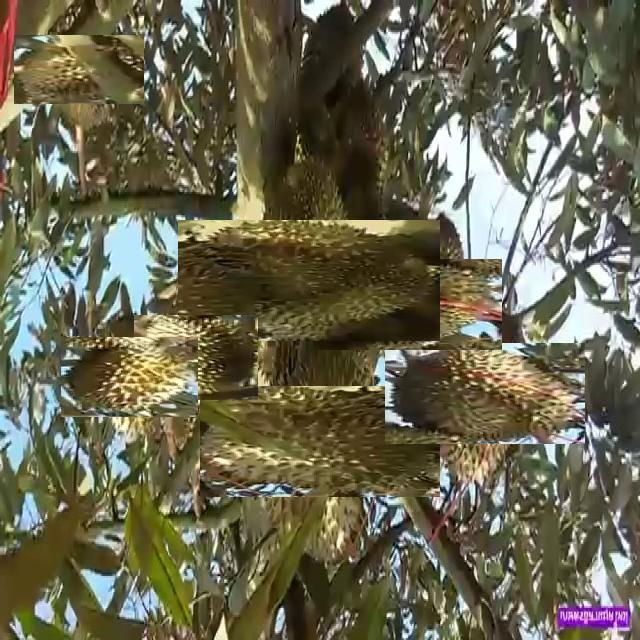durian: (213, 185, 405, 377), (232, 354, 408, 530), (409, 318, 560, 469), (337, 234, 478, 374), (75, 322, 184, 432), (144, 305, 249, 411), (29, 20, 129, 120)
